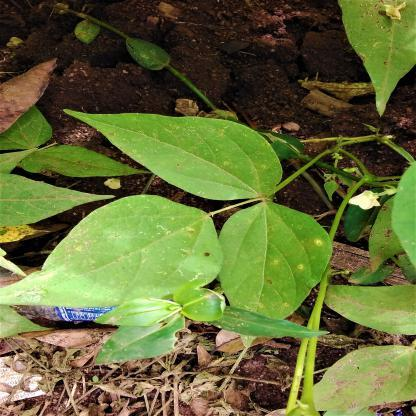Beans_Rust: (0, 197, 223, 311), (60, 106, 282, 196), (224, 203, 333, 342)
